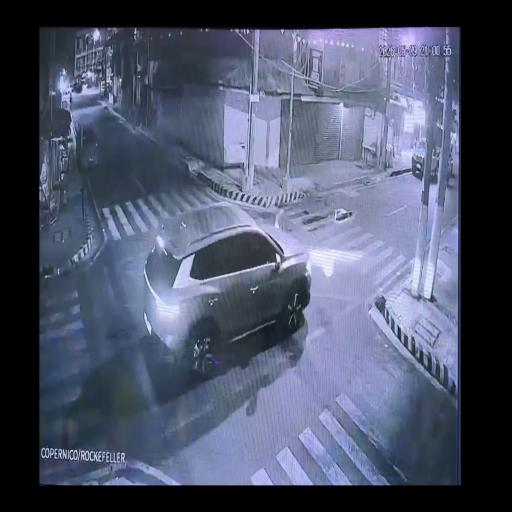Car: (158, 204, 306, 350)
Minor Accident: (155, 202, 306, 350)
Motor: (240, 208, 288, 243)
